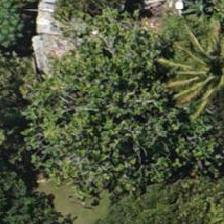coconut_tree: (168, 16, 223, 106)
